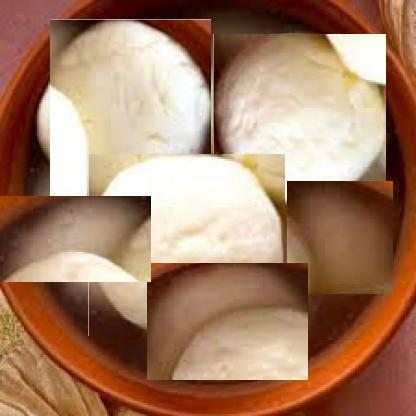rasgulla: (88, 154, 285, 336), (43, 26, 218, 200), (213, 33, 386, 207), (146, 262, 308, 380), (14, 179, 134, 299), (285, 182, 395, 292)
